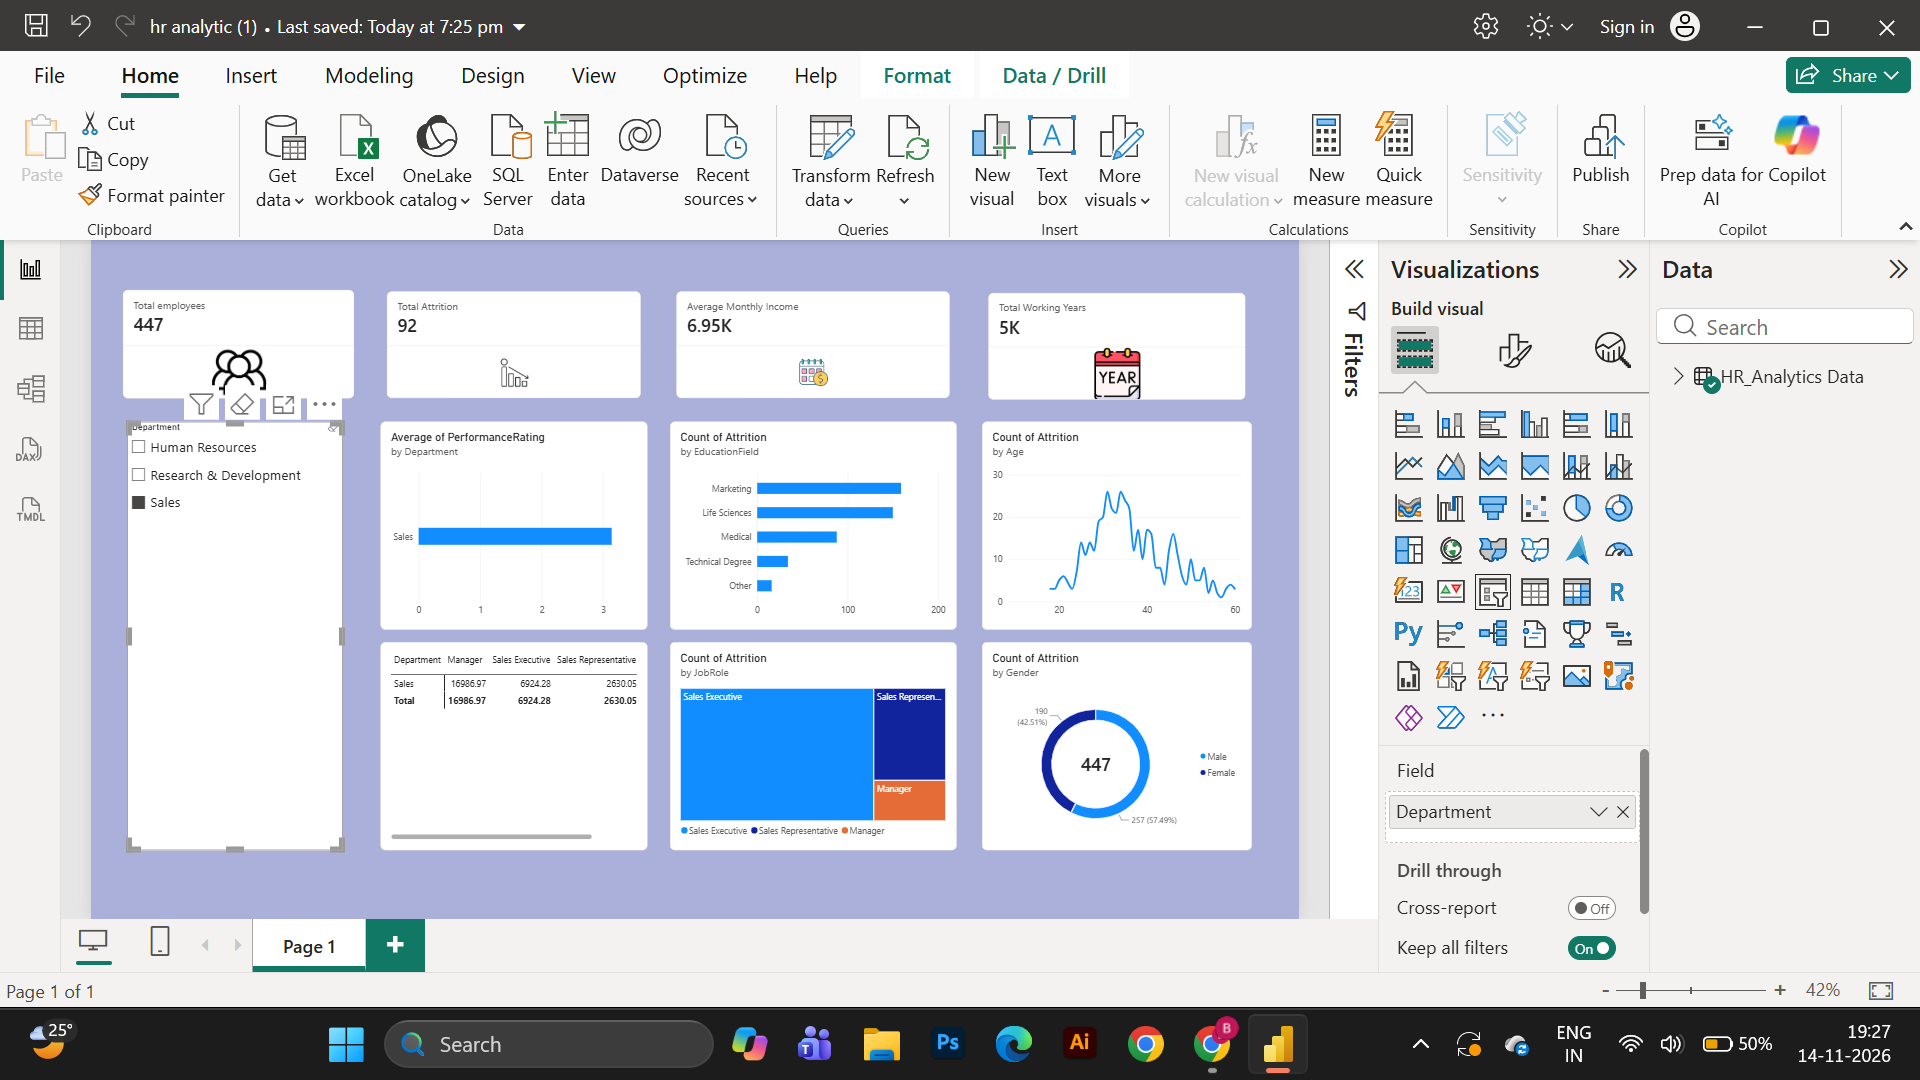

The page's visual inventory and layout, read from the dashboard file:
{"tool":"powerbi","page":{"name":"Page 1","canvas":[1920,1080],"ordinal":0},"visuals":[{"type":"slicer","fields":{"Values":["HR_Analytics Data.Department"]},"box":[57.3,288.7,343.6,682.4],"z":0},{"type":"donutChart","fields":{"Category":["HR_Analytics Data.Gender"],"Y":["CountNonNull(HR_Analytics Data.Attrition)"]},"box":[1417.2,639.4,429.5,331.6],"z":1000},{"type":"clusteredBarChart","fields":{"Category":["HR_Analytics Data.EducationField"],"Y":["CountNonNull(HR_Analytics Data.Attrition)"]},"box":[921,288.7,455.7,331.6],"z":2000},{"type":"cardVisual","fields":{"Data":["Sum(HR_Analytics Data.EmployeeCount)"]},"box":[40.6,69.2,388.9,193.3],"z":3000},{"type":"cardVisual","fields":{"Data":["HR_Analytics Data.Total Attrition"]},"box":[460.5,71.6,424.7,190.9],"z":4000},{"type":"lineChart","fields":{"Category":["HR_Analytics Data.Age"],"Y":["CountNonNull(HR_Analytics Data.Attrition)"]},"box":[1417.2,288.7,429.5,331.6],"z":5000},{"type":"treemap","fields":{"Group":["HR_Analytics Data.JobRole"],"Values":["CountNonNull(HR_Analytics Data.Attrition)"]},"box":[921,639.4,455.7,331.6],"z":6000},{"type":"cardVisual","fields":{"Data":["HR_Analytics Data.Average Monthly Income"]},"box":[921,71.6,455.7,190.9],"z":7000},{"type":"cardVisual","fields":{"Data":["HR_Analytics Data.Total Working Years"]},"box":[1417.2,74,429.5,190.9],"z":8000},{"type":"pivotTable","fields":{"Columns":["HR_Analytics Data.JobRole"],"Rows":["HR_Analytics Data.Department"],"Values":["Avg(HR_Analytics Data.MonthlyIncome)"]},"box":[460.5,639.4,424.7,331.6],"z":9000},{"type":"barChart","fields":{"Category":["HR_Analytics Data.Department"],"Y":["Avg(HR_Analytics Data.PerformanceRating)"]},"box":[460.5,288.7,424.7,331.6],"z":10000},{"type":"textbox","box":[57,895,281,150],"z":10001},{"type":"textbox","box":[100,100,300,300],"z":10002}]}

Visuals, with their boxes on the page's 1920x1080 design canvas (x1, y1, x2, y2). These are canvas units, not pixel positions in the 1920x1080 screenshot, which may show the page scaled, cropped or inside an application window:
slicer - HR_Analytics Data.Department: detection(57, 289, 401, 971)
donutChart - HR_Analytics Data.Gender x CountNonNull(HR_Analytics Data.Attrition): detection(1417, 639, 1847, 971)
clusteredBarChart - HR_Analytics Data.EducationField x CountNonNull(HR_Analytics Data.Attrition): detection(921, 289, 1377, 620)
cardVisual - Sum(HR_Analytics Data.EmployeeCount): detection(41, 69, 430, 262)
cardVisual - HR_Analytics Data.Total Attrition: detection(460, 72, 885, 262)
lineChart - HR_Analytics Data.Age x CountNonNull(HR_Analytics Data.Attrition): detection(1417, 289, 1847, 620)
treemap - HR_Analytics Data.JobRole x CountNonNull(HR_Analytics Data.Attrition): detection(921, 639, 1377, 971)
cardVisual - HR_Analytics Data.Average Monthly Income: detection(921, 72, 1377, 262)
cardVisual - HR_Analytics Data.Total Working Years: detection(1417, 74, 1847, 265)
pivotTable - HR_Analytics Data.JobRole x HR_Analytics Data.Department: detection(460, 639, 885, 971)
barChart - HR_Analytics Data.Department x Avg(HR_Analytics Data.PerformanceRating): detection(460, 289, 885, 620)
textbox: detection(57, 895, 338, 1045)
textbox: detection(100, 100, 400, 400)
